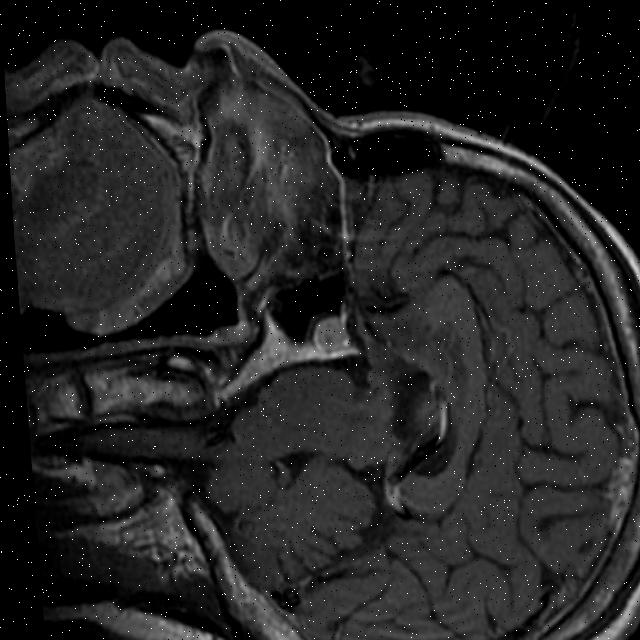Pituitary: (309, 314, 350, 356)
